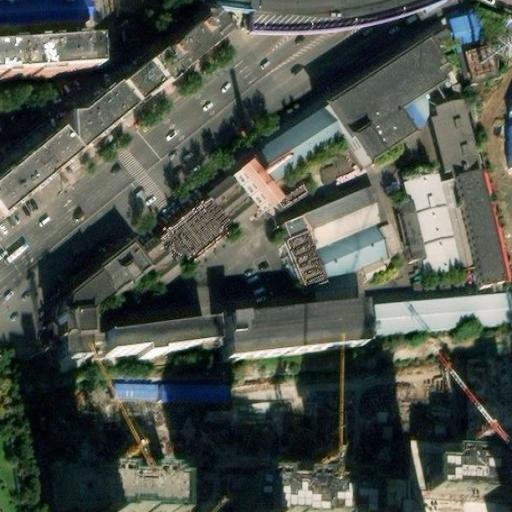building: (325, 58, 453, 188), (300, 198, 396, 302), (248, 116, 340, 195), (402, 181, 465, 293), (221, 308, 355, 356), (58, 460, 181, 512), (169, 187, 256, 260), (378, 299, 512, 345), (0, 126, 74, 209), (148, 13, 224, 83), (458, 185, 507, 290), (241, 472, 367, 512), (63, 289, 118, 375), (63, 84, 128, 149), (432, 109, 481, 192), (106, 328, 204, 365), (0, 36, 96, 73), (95, 253, 156, 311), (432, 445, 512, 488), (115, 60, 172, 109), (234, 170, 283, 226), (136, 232, 188, 282), (113, 383, 228, 404), (446, 7, 486, 48), (462, 41, 501, 82), (500, 104, 512, 167)
